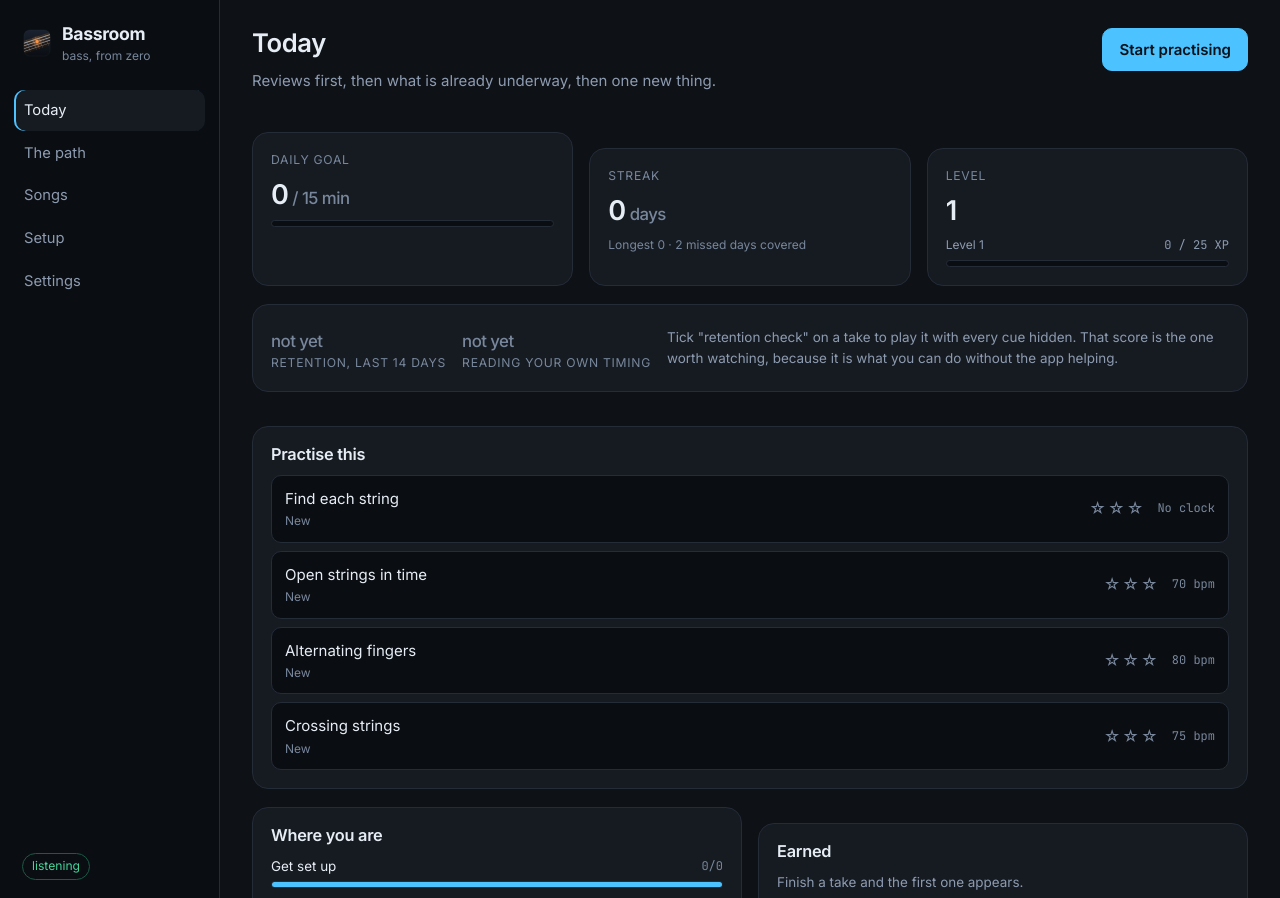
Scenario: the practice screen with the input running › asks the player to read their own timing before showing the result
Click the button "The path": (110, 153) [14, 133, 205, 174]
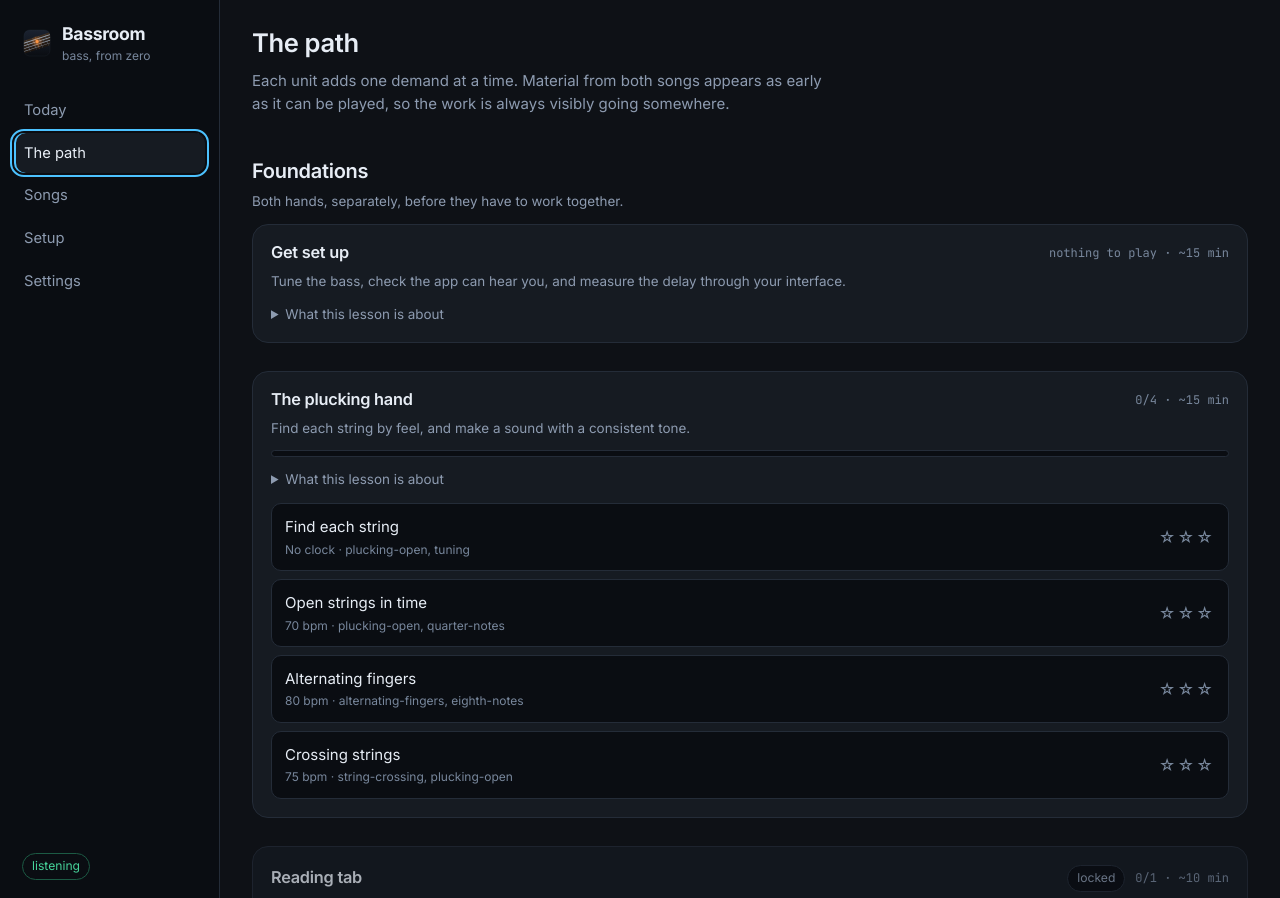
Click the button "Open strings in time": (356, 603) [271, 579, 1229, 647]
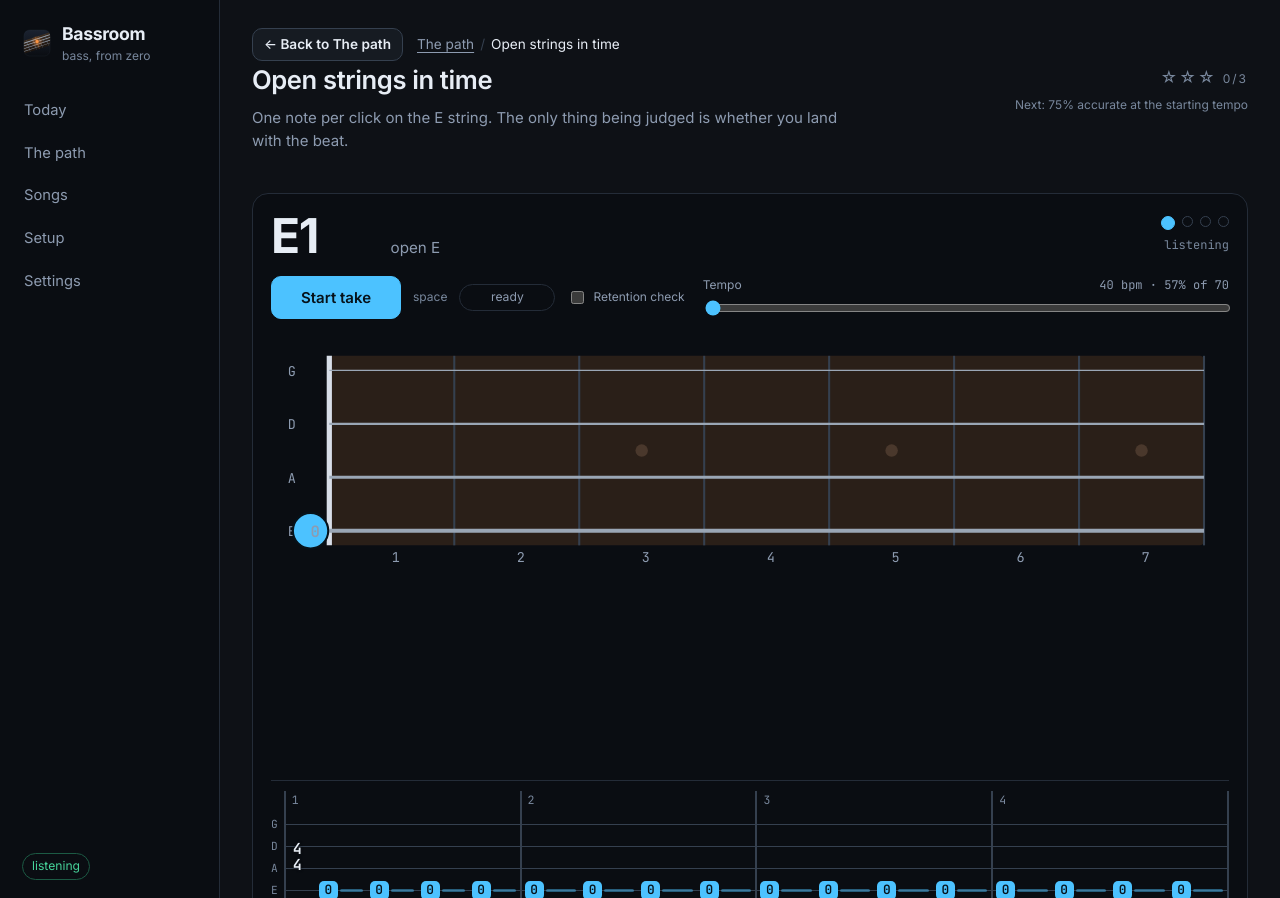
Click the button "Start take": (336, 297) [271, 276, 401, 319]
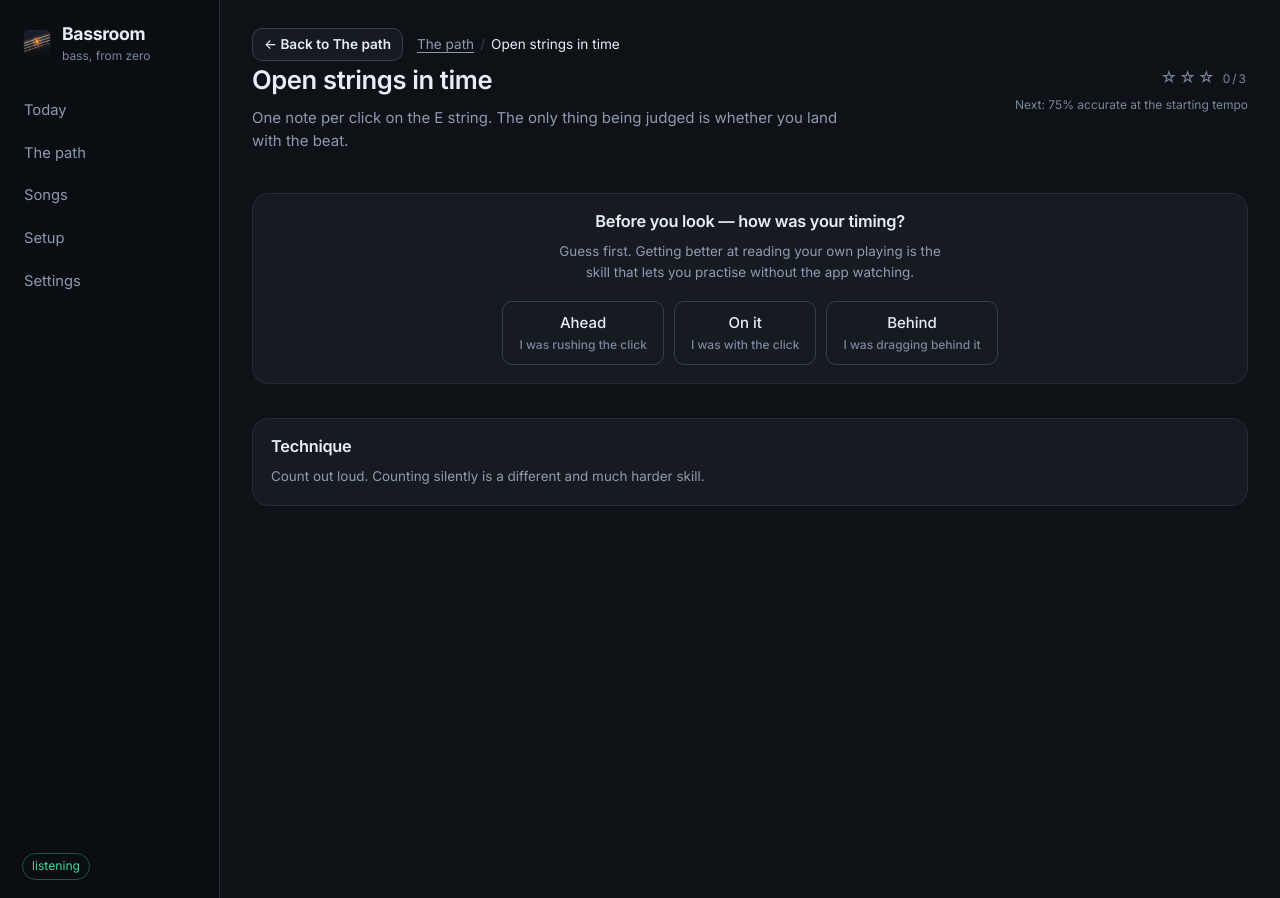
Result: the heading "Before you look — how was your timing?" is shown at [595, 210, 905, 230]
